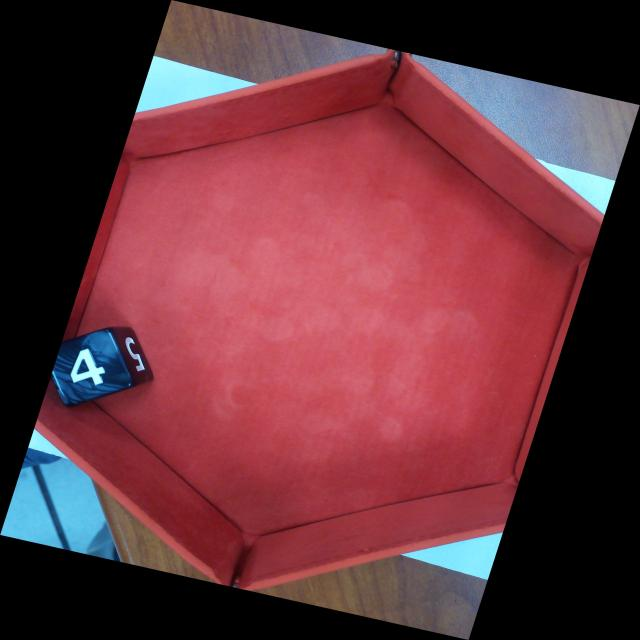dice: (46, 325, 135, 408)
